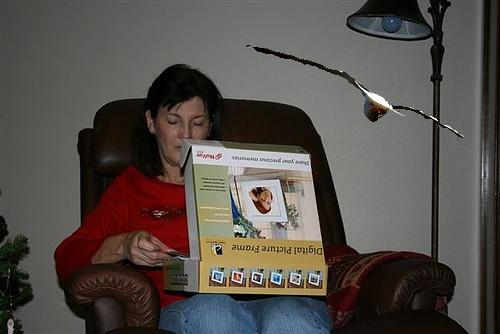tampered: (247, 46, 464, 138)
